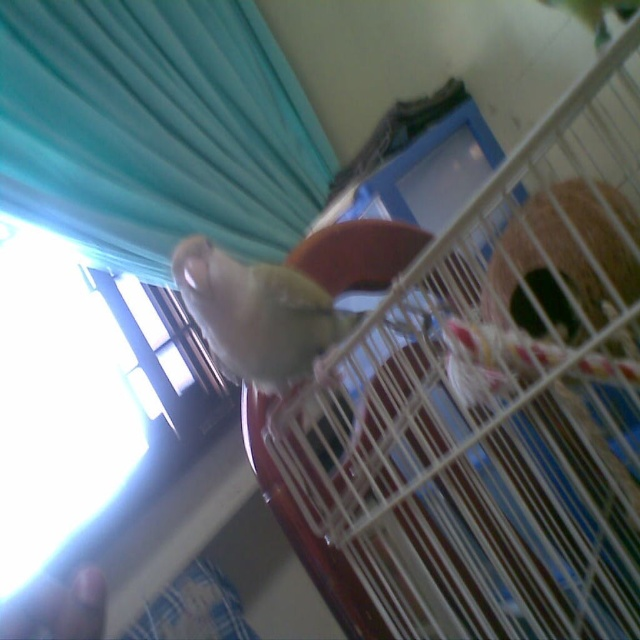Parrot: (172, 233, 359, 394)
